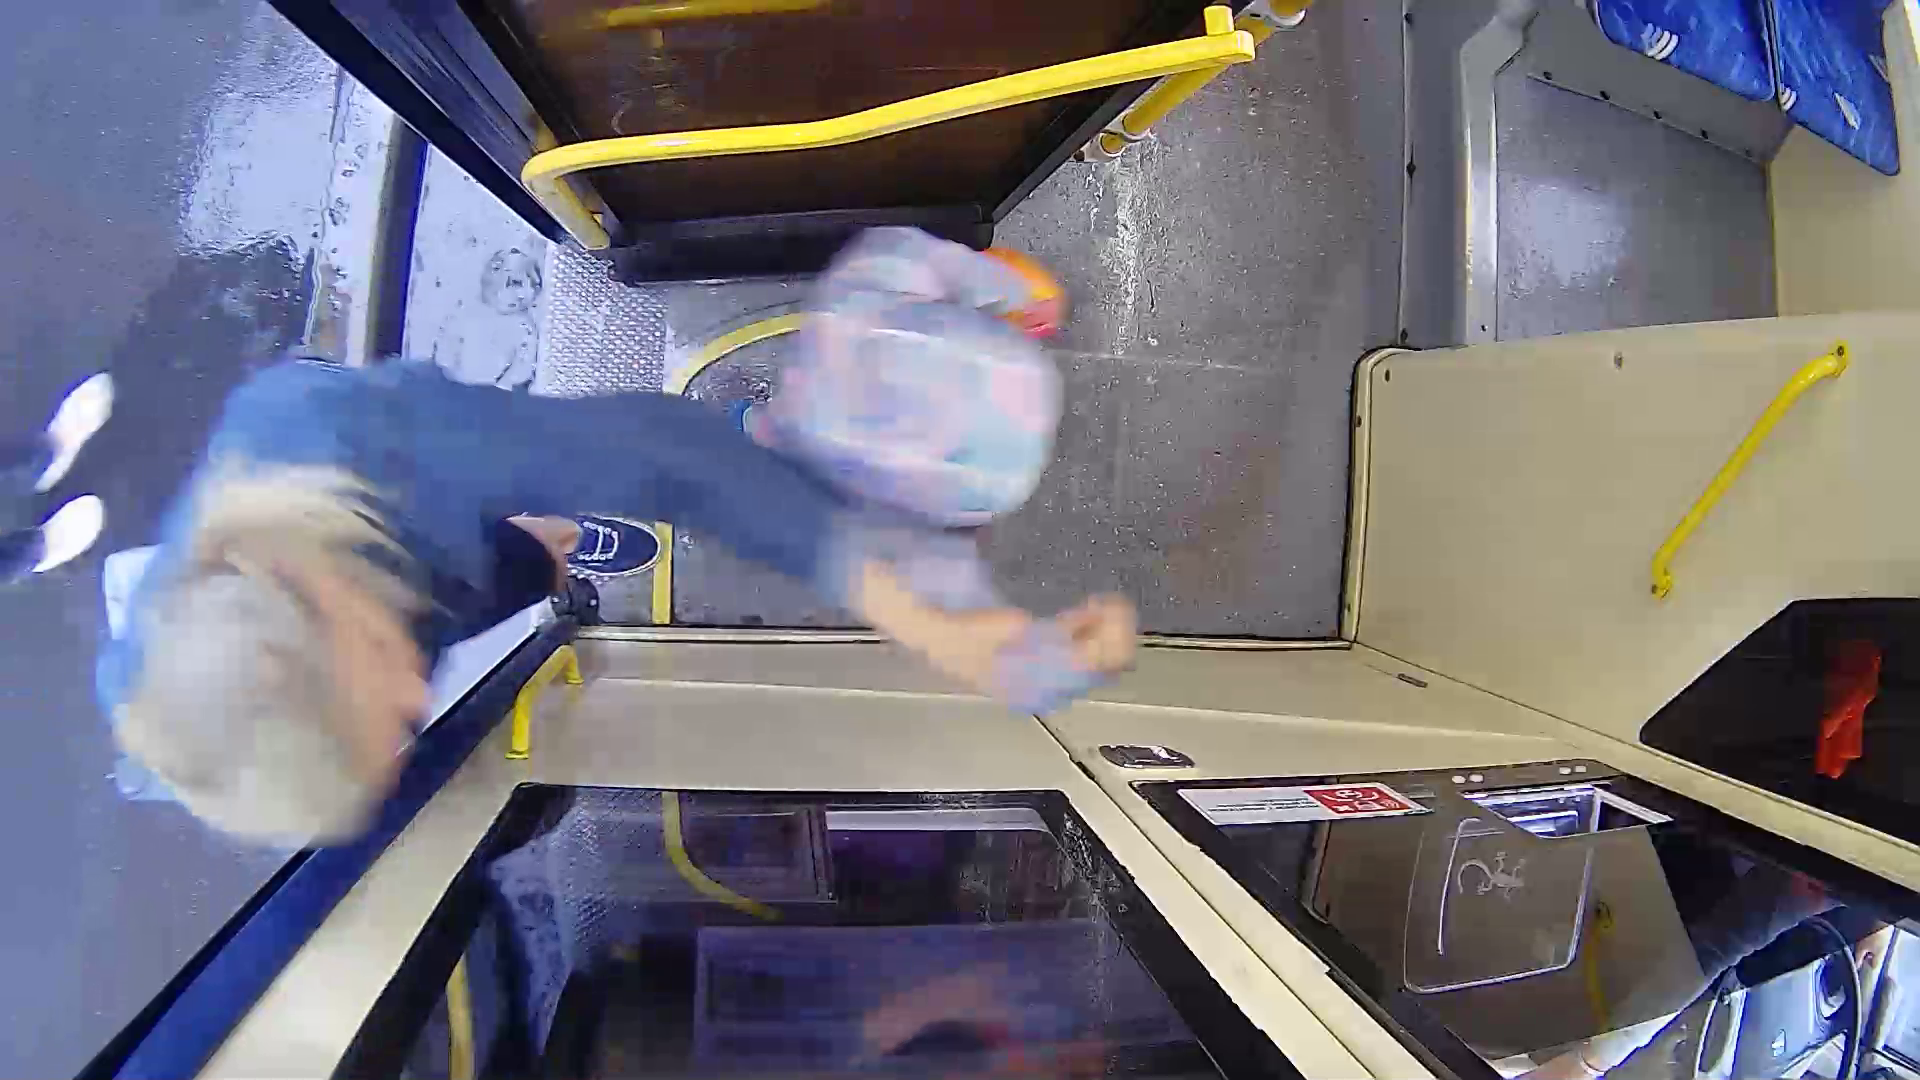person: (170, 308, 743, 838), (695, 226, 1275, 710)
